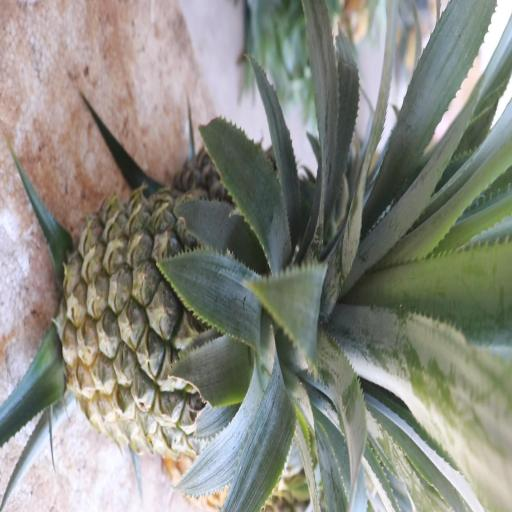------------------------------: (63, 186, 277, 452)
